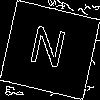N: (24, 25, 69, 78)
